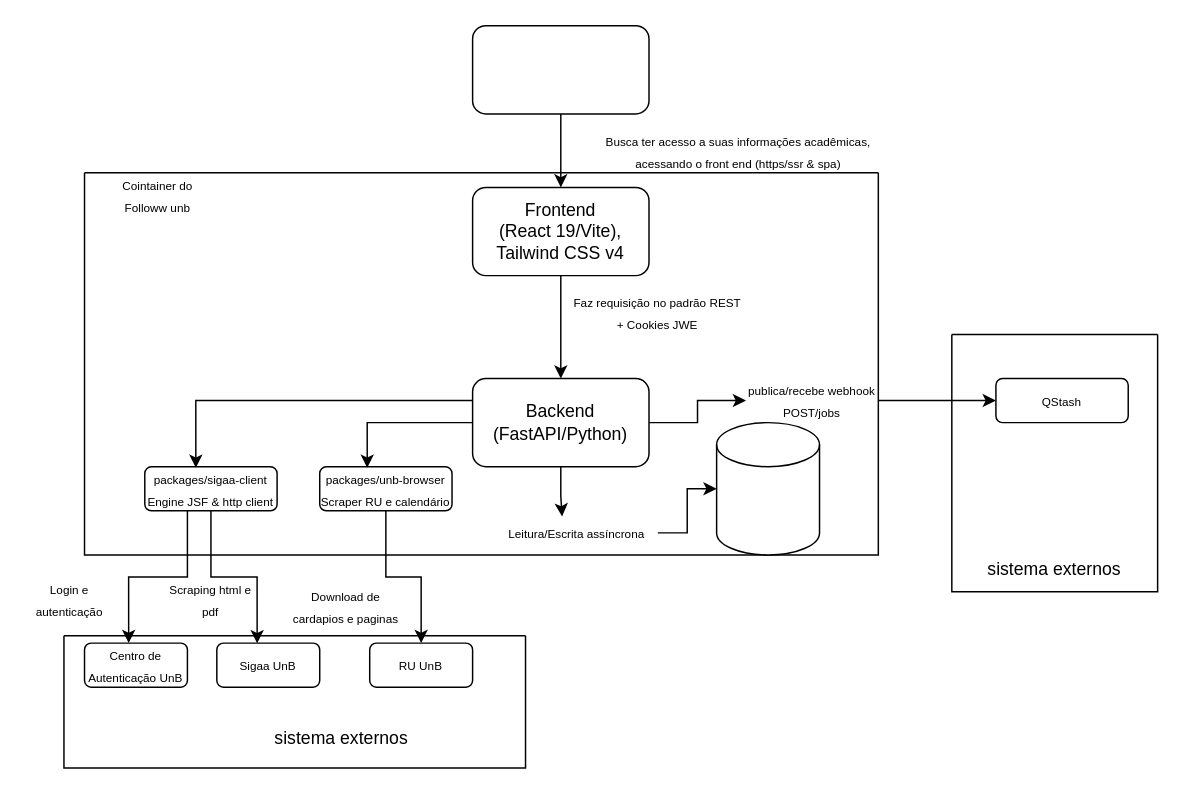
This 1183x794 diagram has some shape labels left out. Each missing label, with the centre of its shape:
"PostgreSQL Cache de turmas, cardápios, usuários..." belongs at [767,488].
"Usuário/Estudante" belongs at [560,69].
